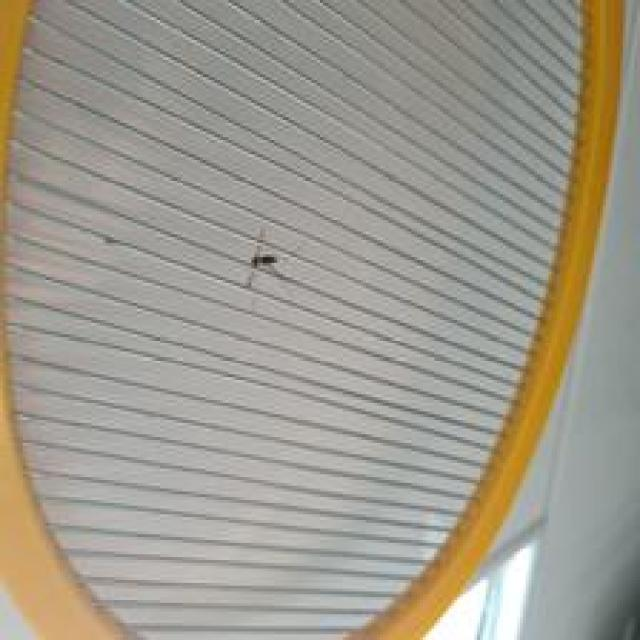Culex: (243, 226, 283, 288)
